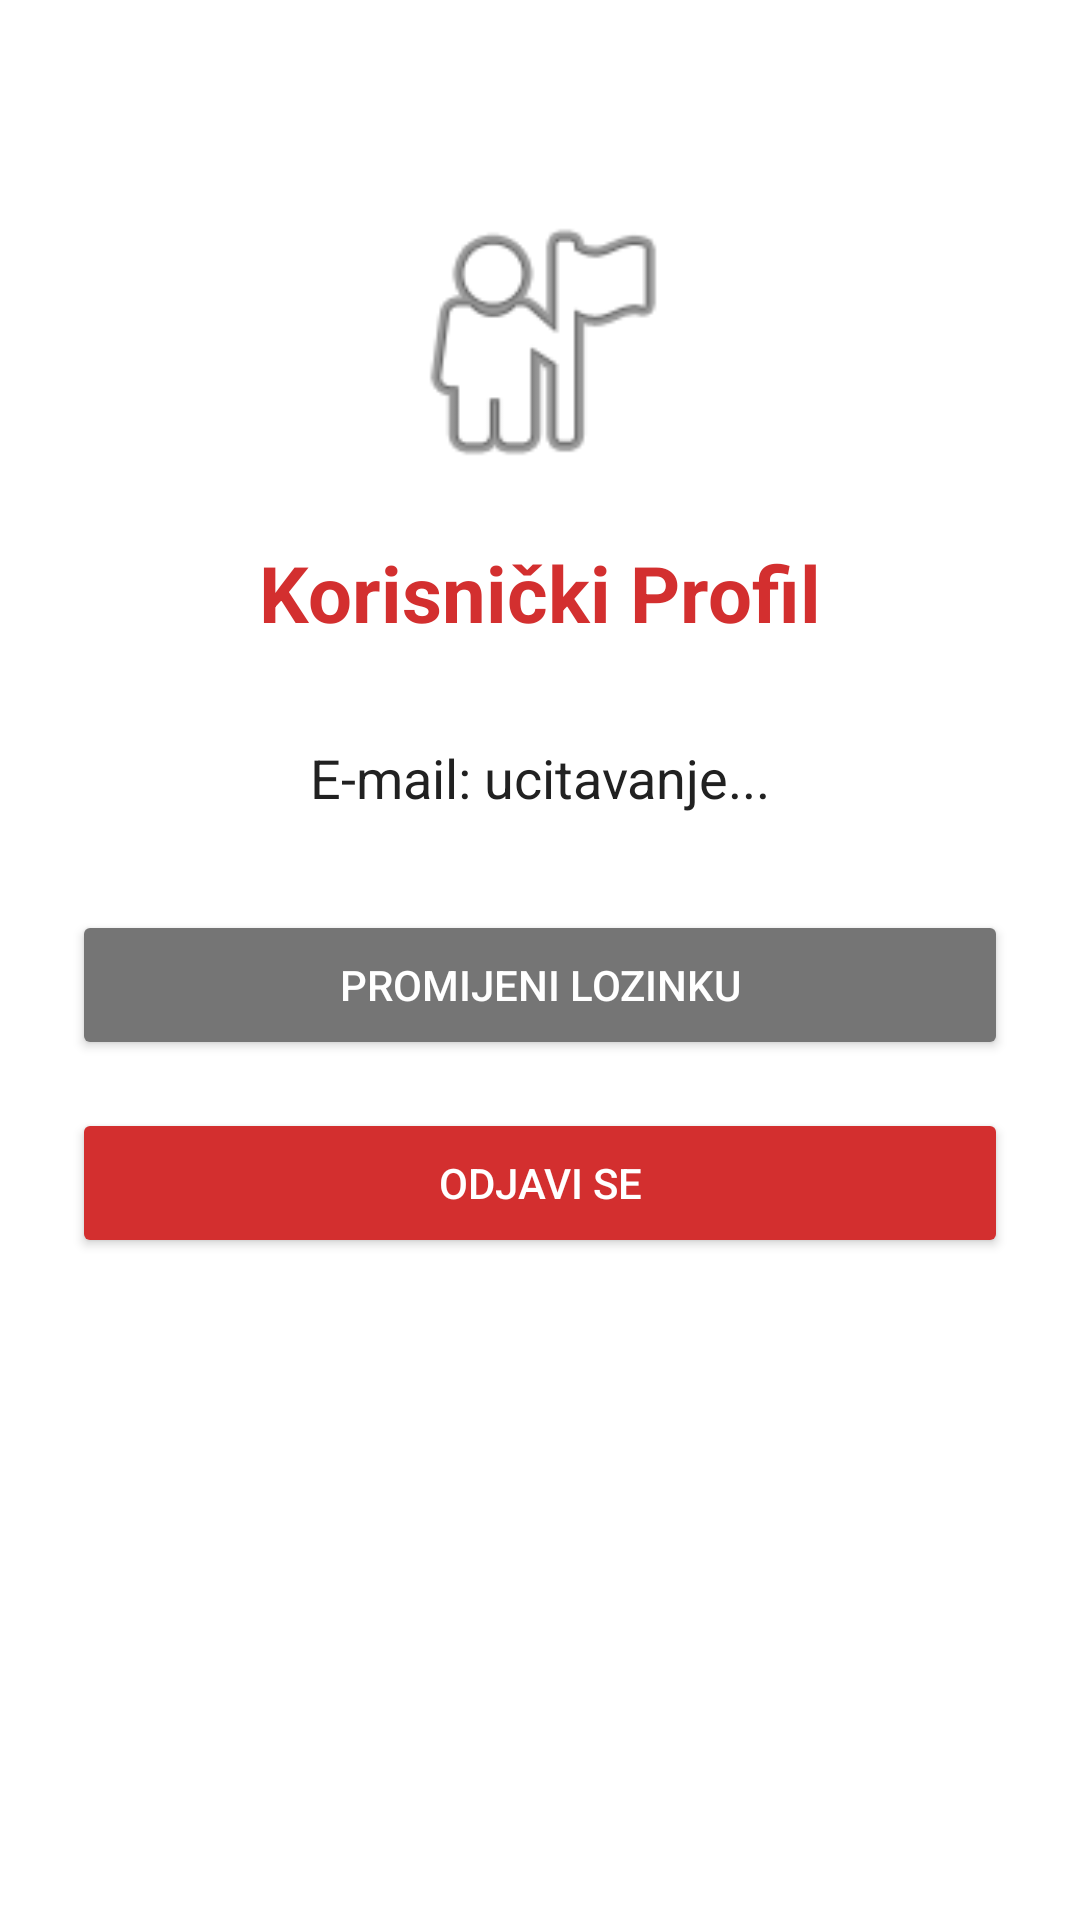

Screen size 1080x1920. Icon name, then its center in pixels as [x,y]:
Profilna slika: [543,342]
